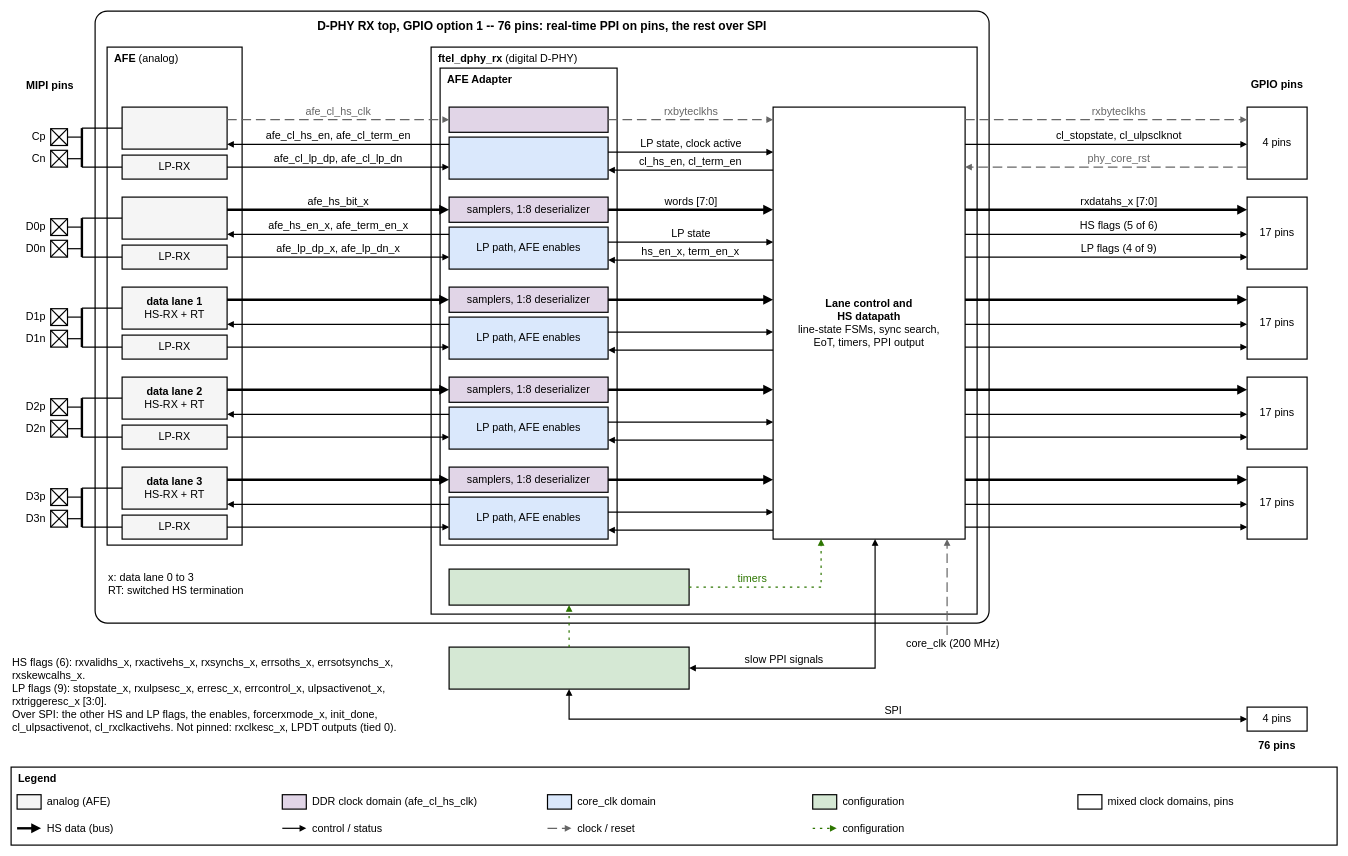
This 1348x856 diagram has some shape labels left out. Here are the shapes that lost their labels. From the top down, the centre of each, then its label:
(x=174, y=127): clock lane HS-RX + RT
(x=528, y=119): byte clock, /4
(x=528, y=157): LP path, clock activity, AFE enables
(x=174, y=217): data lane 0 HS-RX + RT
(x=568, y=586): Configuration & Status
(x=568, y=667): SPI slave + registers (chip top) configuration, enables, slow PPI flags
